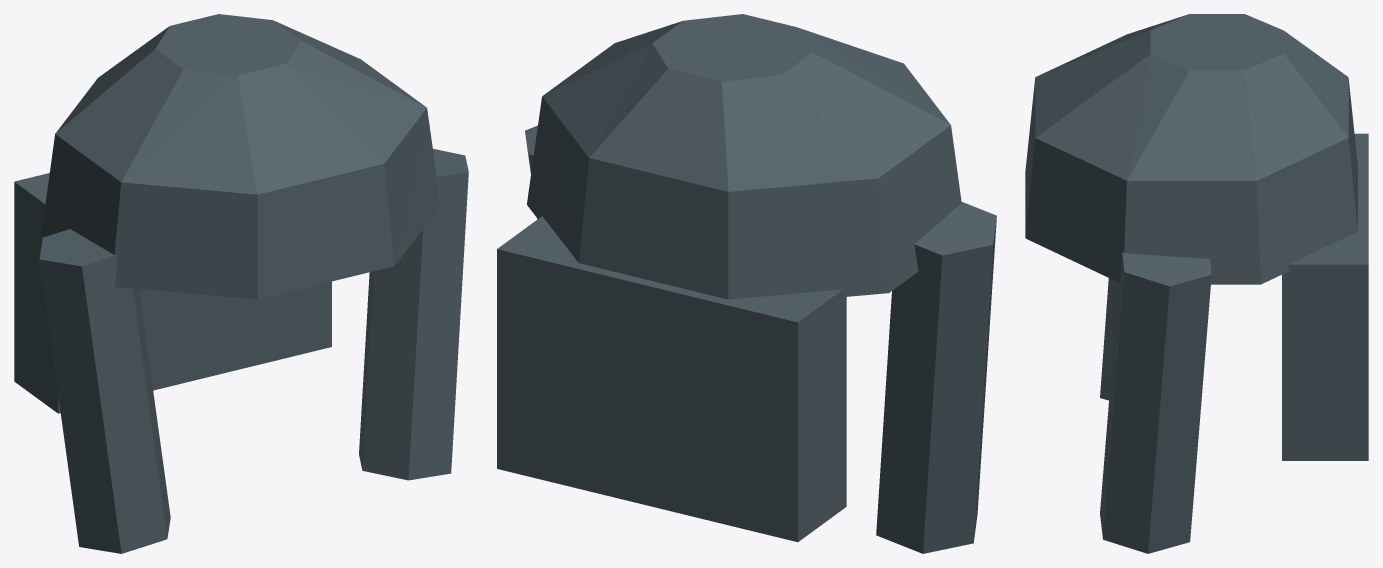
Rendered from NPC_Headwear_00_Hood.glb.
3 renders of one model, left to right at view 1: azimuth 30°, elevation 25°; view 2: azimuth 150°, elevation 25°; view 3: azimuth 270°, elevation 25°, orthographic. The views are drawn at different scales.
Parts seen in each view (by area): view 1: NPC_Headwear_00_Hood; view 2: NPC_Headwear_00_Hood; view 3: NPC_Headwear_00_Hood.
Boxes of the visible parts, bbox=[...] form: NPC_Headwear_00_Hood: bbox=[14, 14, 468, 553]; NPC_Headwear_00_Hood: bbox=[497, 14, 996, 553]; NPC_Headwear_00_Hood: bbox=[1025, 14, 1368, 553].
Bounding box in the file's own units: 0.6689 × 0.6476 × 0.476.
